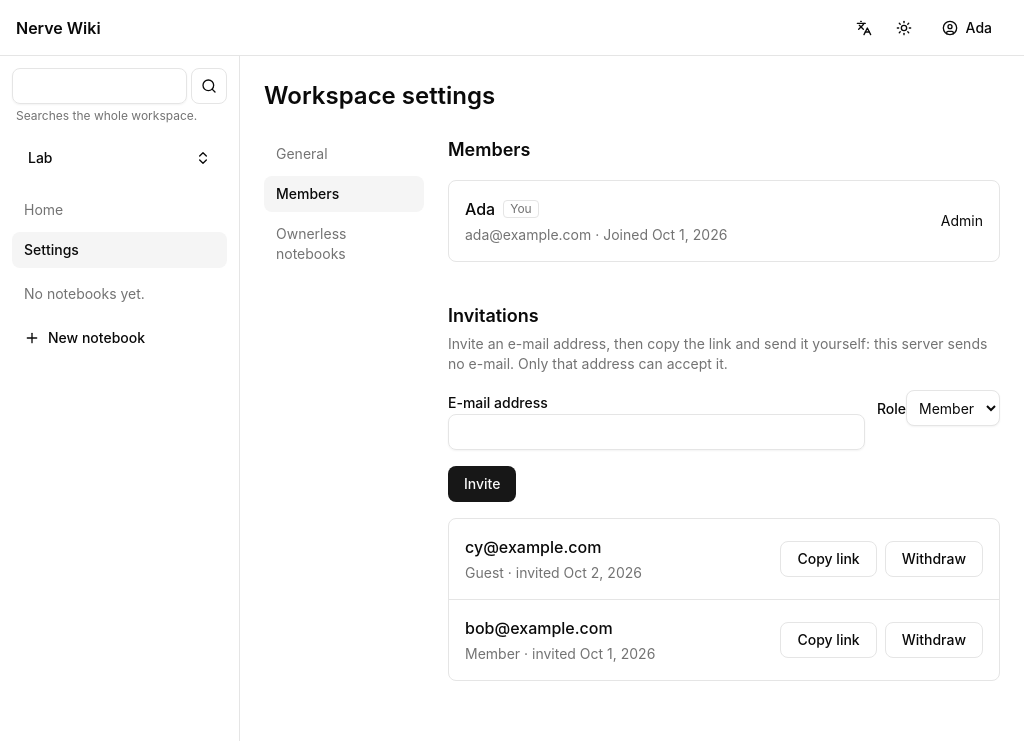
Test: an admin withdraws an invitation once confirmed: withdrawn
The width and height of the screenshot is (1024, 741).
Click the button with aria-label "Copy link: bob@example.com" at (829, 640), box [780, 622, 877, 658]
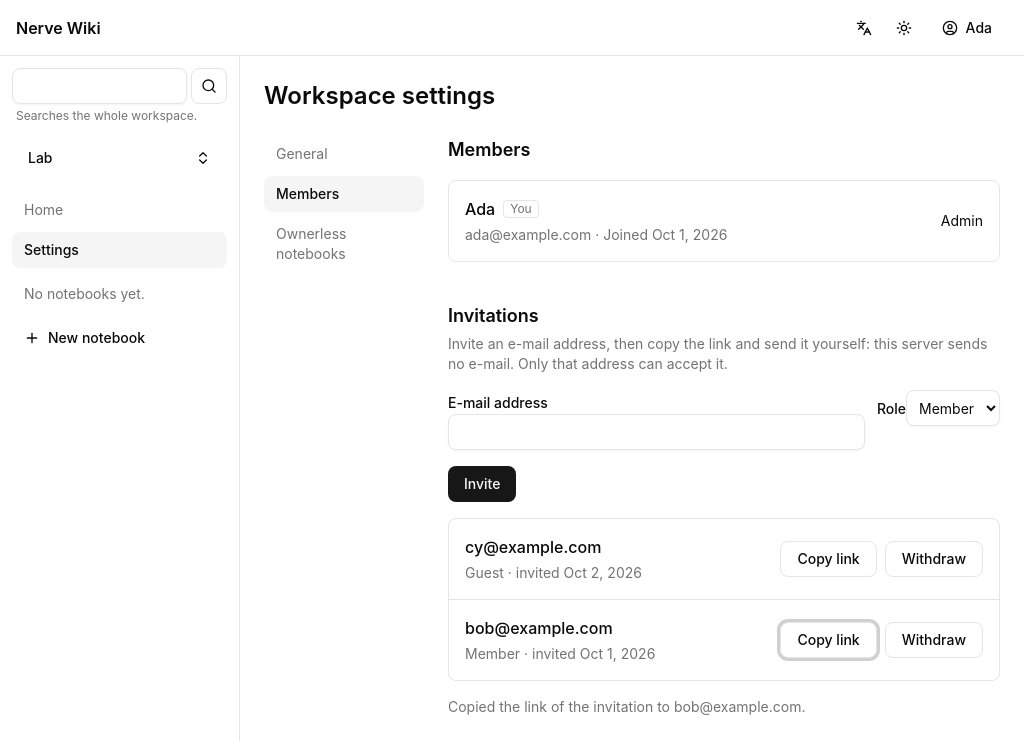
Check: the text "Copied the link of the invitation to bob@example.com." is shown, box [448, 698, 806, 715]
Click the button with aria-label "Withdraw the invitation to bob@example.com" at (934, 640), box [885, 622, 983, 658]
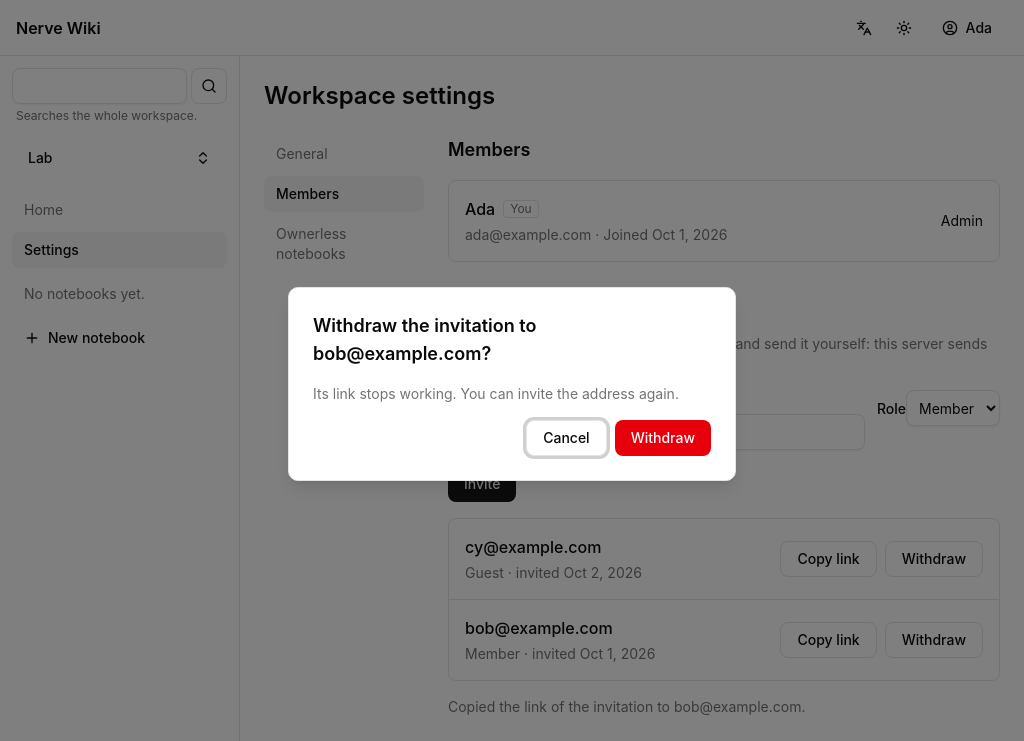
Click the button "Withdraw" at (663, 438), box [615, 420, 711, 456]
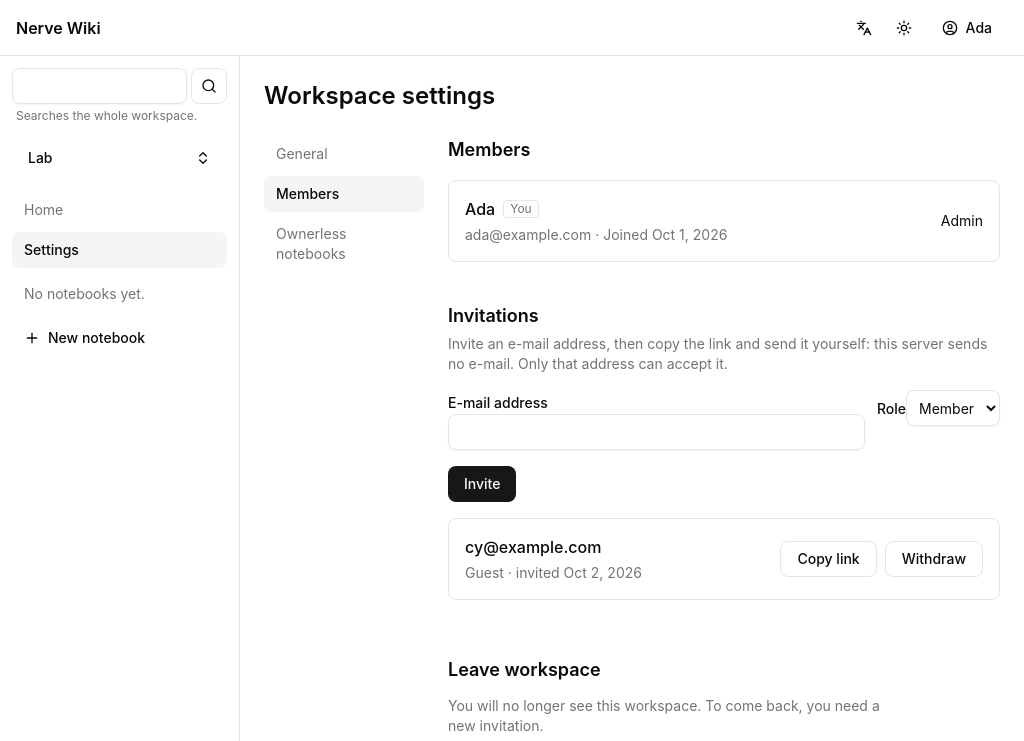
Check: the dialog is gone
Check: the text "Copied" is gone
